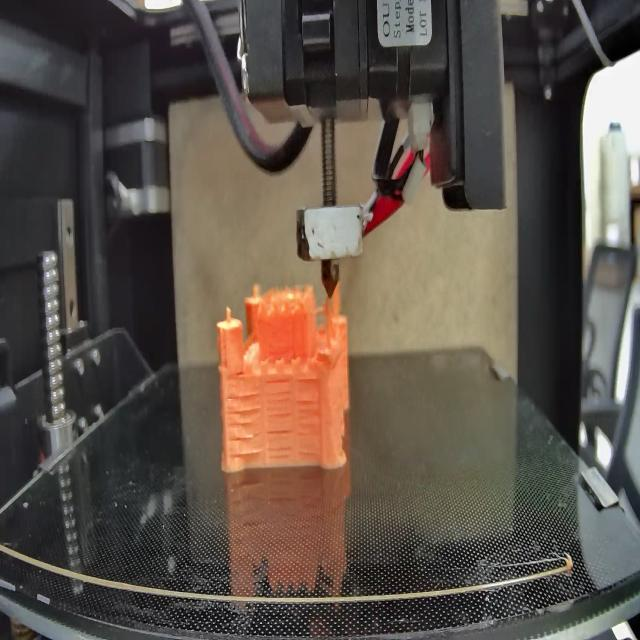cracks: (226, 394, 261, 458), (297, 398, 321, 460), (264, 377, 292, 422), (266, 428, 294, 458), (293, 369, 323, 389), (234, 368, 245, 382)
